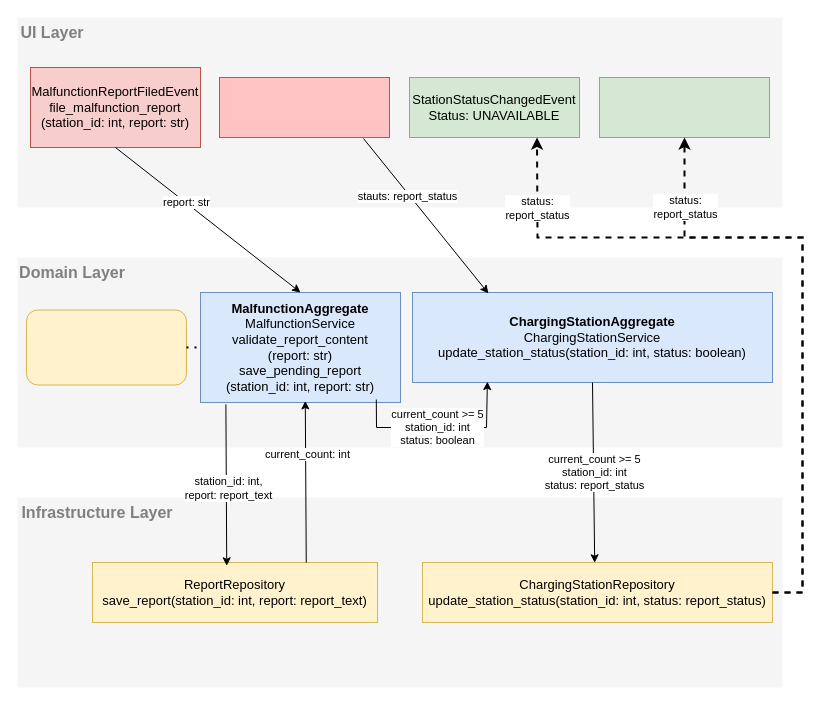
This 828x704 diagram has some shape labels left out. Each missing label, with the centre of its shape:
RepairCompletedEvent Action: 'Fixed': point 304,107
StationRestoredEvent Status: AVAILABLE: point 684,107
Validation Rule: Not Empty Max 200 Characters: point 106,347
